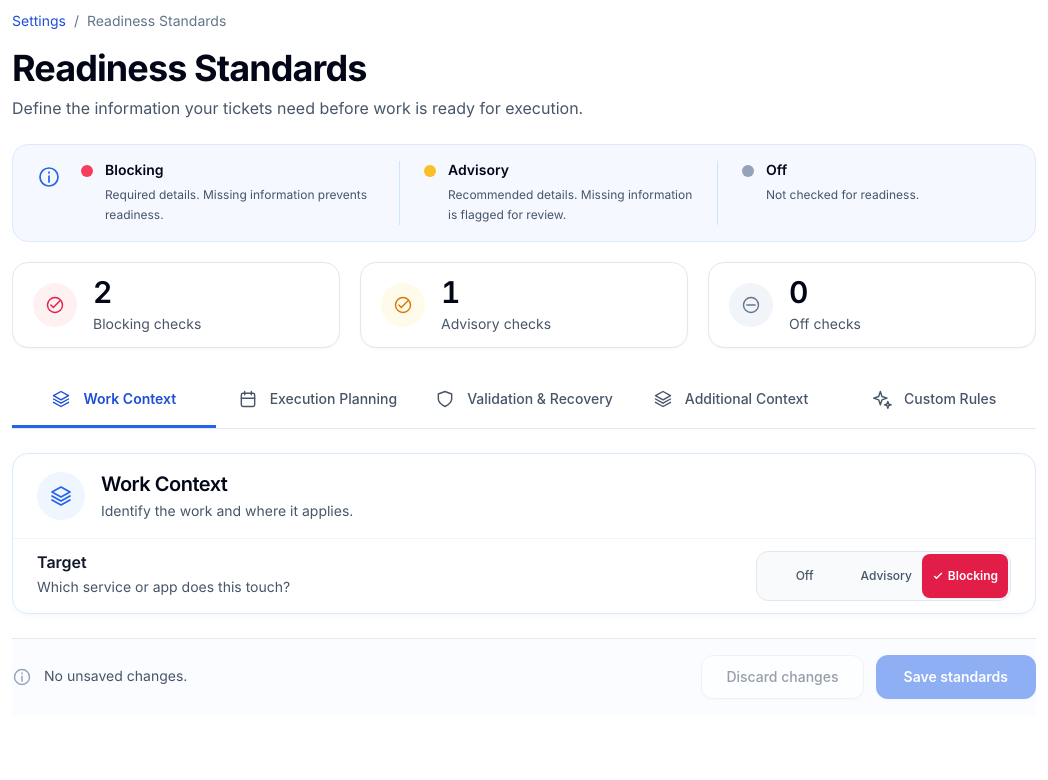
ChecklistSettingsPage › shows a ticket-type tag and a suggested-from-example badge for a proposed rule
The image size is (1048, 780).
Click the tab "Custom Rules".
click(934, 400)  # box [832, 372, 1036, 428]
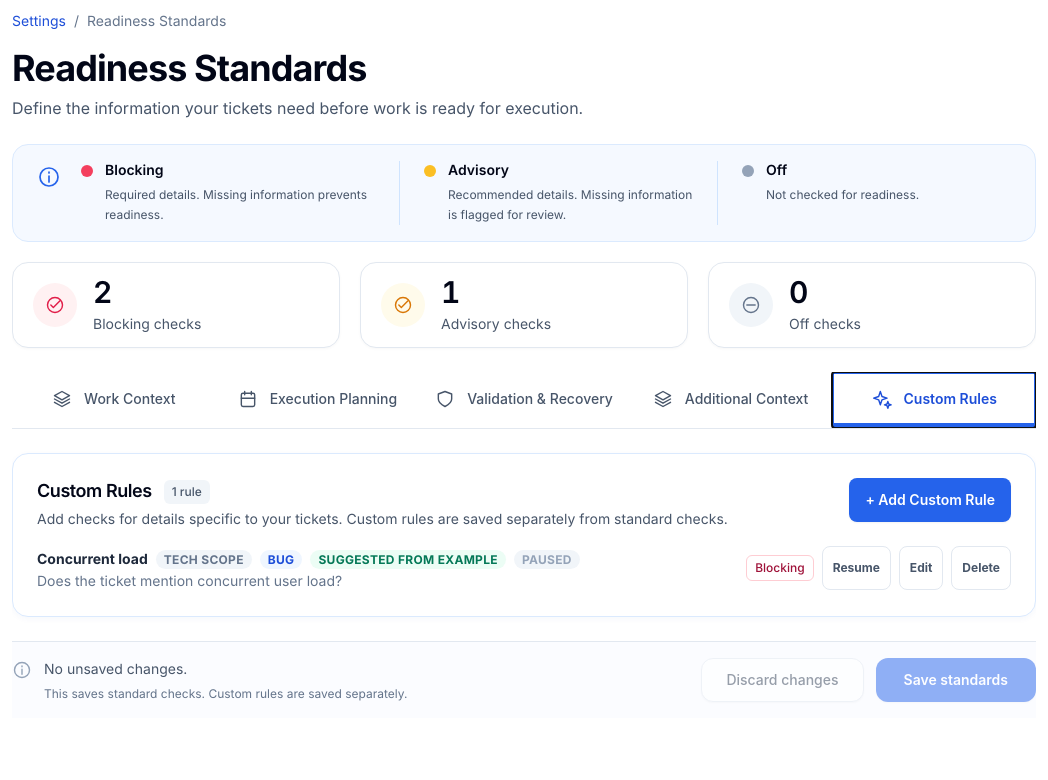
Now the text "Concurrent load" is shown, box [37, 551, 148, 568]
Now the text "Bug" is shown, box [260, 550, 302, 569]
Now the text "Suggested from example" is shown, box [310, 550, 506, 569]
